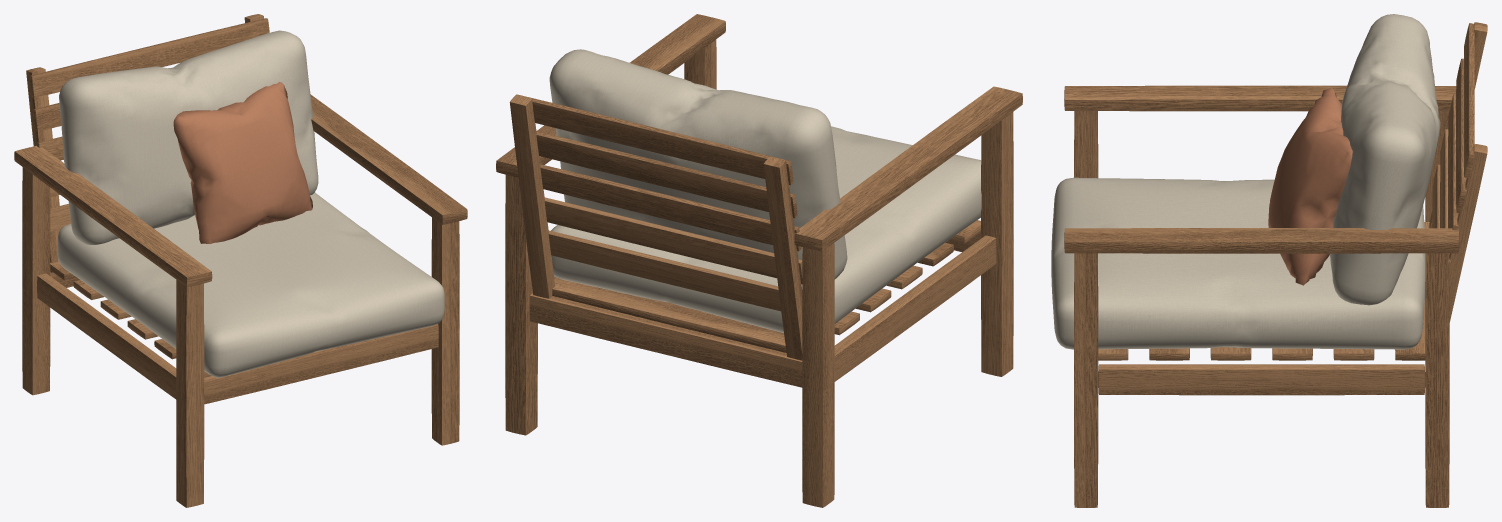
The model's file is canopee_terrasse_fauteuil.gltf.
The picture shows the model from 3 angles, left to right: view 1: azimuth 30°, elevation 25°; view 2: azimuth 150°, elevation 25°; view 3: azimuth 270°, elevation 25°; orthographic projection. The views are drawn at different scales.
Visible parts, largest first — view 1: canopee_terrasse_fauteuil; view 2: canopee_terrasse_fauteuil; view 3: canopee_terrasse_fauteuil.
Boxes of the visible parts, x1=… form: canopee_terrasse_fauteuil: x1=14, y1=14, x2=467, y2=507; canopee_terrasse_fauteuil: x1=496, y1=14, x2=1022, y2=507; canopee_terrasse_fauteuil: x1=1051, y1=14, x2=1487, y2=507.
Bounding box in the file's own units: 0.76 × 0.8161 × 0.8941.
3 materials, 3 textured.
